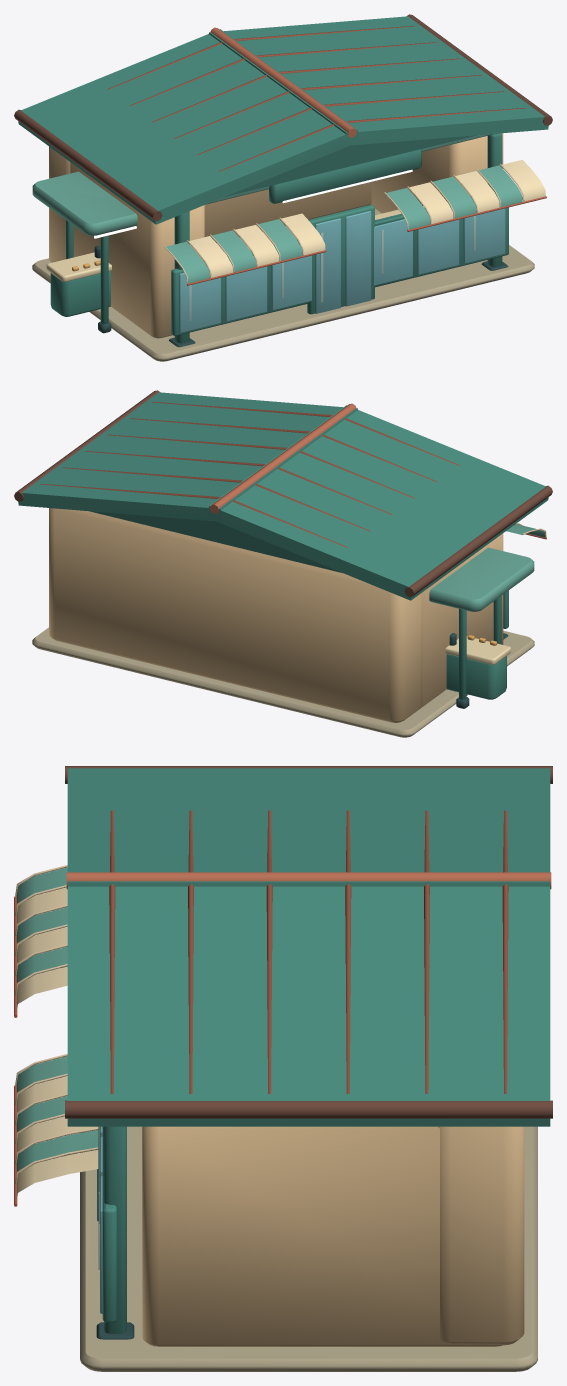
Rendered from tropical_rent.glb.
3 views of the same model, one above another, from view 1: azimuth 30°, elevation 25°; view 2: azimuth 150°, elevation 25°; view 3: azimuth 270°, elevation 25° (orthographic). The views are drawn at different scales.
Visible parts, largest first — view 1: TropicalRent; view 2: TropicalRent; view 3: TropicalRent.
Boxes of the visible parts, x1,y1,x2,y2 form: TropicalRent: (14,14,552,361); TropicalRent: (14,390,552,737); TropicalRent: (14,766,552,1371).
Size of the model in its own units: 9.45 by 4.09 by 5.91.
